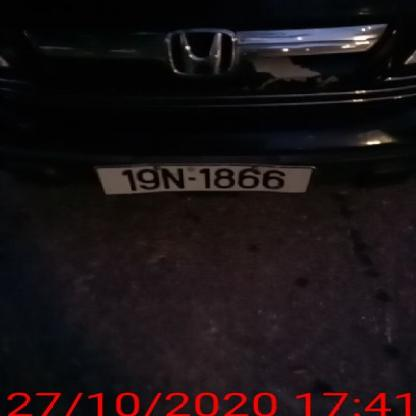biensoxe: (94, 160, 317, 199)
